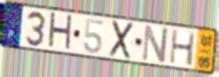3: (23, 10, 47, 48)
5: (82, 17, 104, 55)
H: (47, 11, 74, 53), (169, 29, 197, 68)
N: (140, 23, 170, 65)
X: (107, 19, 135, 61)
